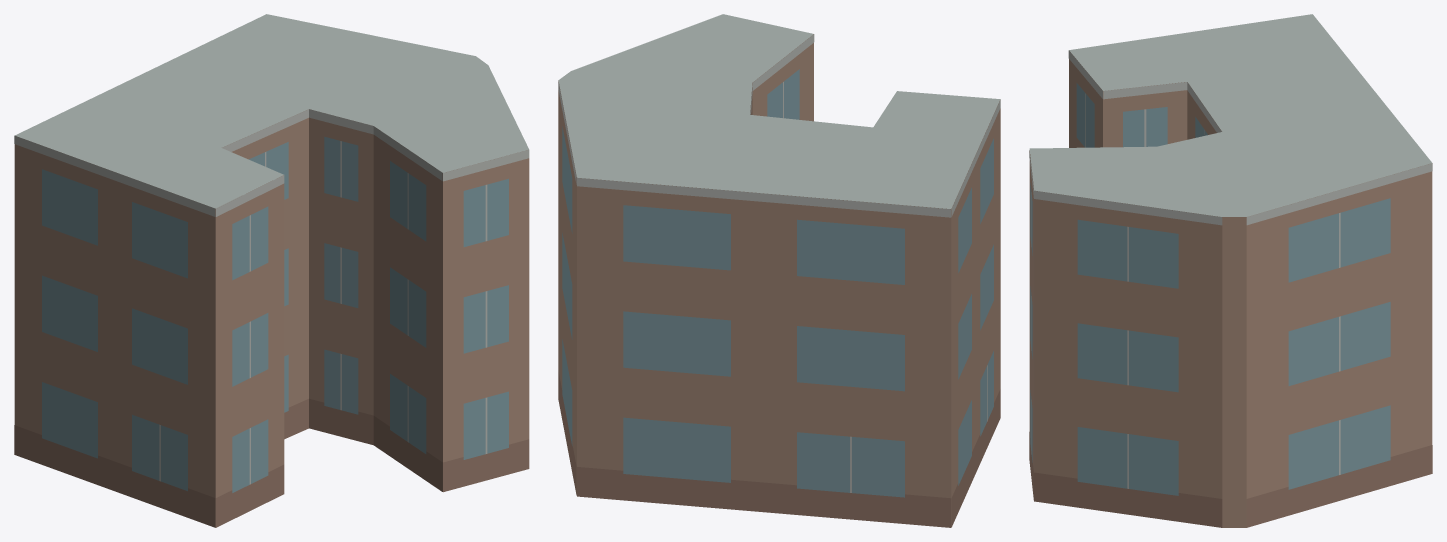
Rendered from survey-upis-32686352.glb.
The picture shows the model from 3 angles, left to right: view 1: azimuth 30°, elevation 25°; view 2: azimuth 150°, elevation 25°; view 3: azimuth 270°, elevation 25°; orthographic projection. The views are drawn at different scales.
Visible parts, largest first — view 1: survey-upis-32686352.tmp; view 2: survey-upis-32686352.tmp; view 3: survey-upis-32686352.tmp.
Part boxes in pixels (x1,y1,x2,y2): survey-upis-32686352.tmp: (14, 14, 529, 527); survey-upis-32686352.tmp: (558, 14, 1000, 527); survey-upis-32686352.tmp: (1029, 14, 1432, 527).
Bounding box in the file's own units: 12.76 × 9.1 × 10.7.
